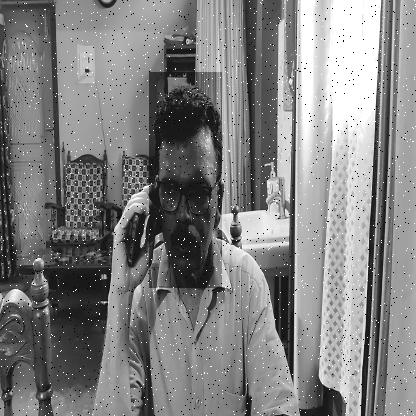Normal: (149, 72, 222, 288)
